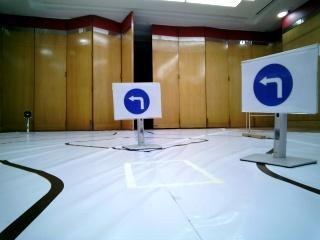left: (242, 62, 319, 113), (112, 82, 161, 119)
